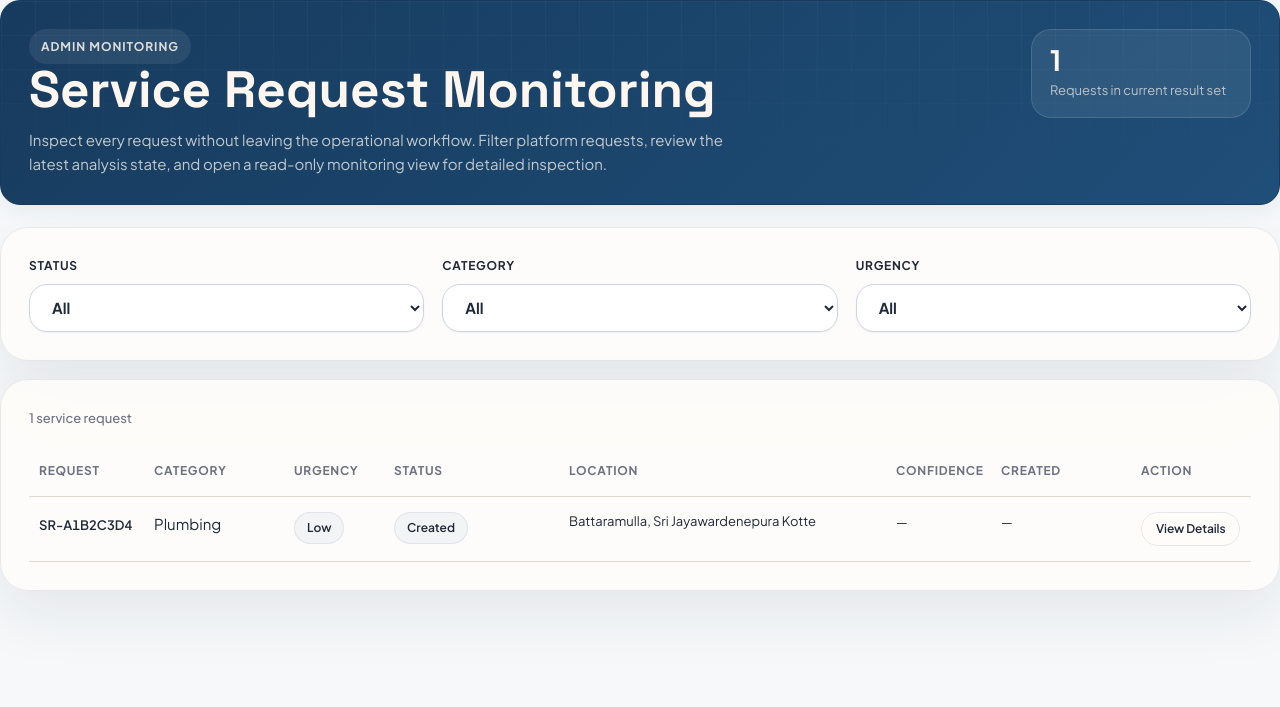
Persisted Admin location presentation › preserves the existing partial-coordinate diagnostic behavior
This screenshot has width=1280, height=707.
What coordinates should you click on to do the following:
click the button "View Details"
I would click on:
 (1191, 529)
Its box is [1141,512,1240,546].
(page scrolled)
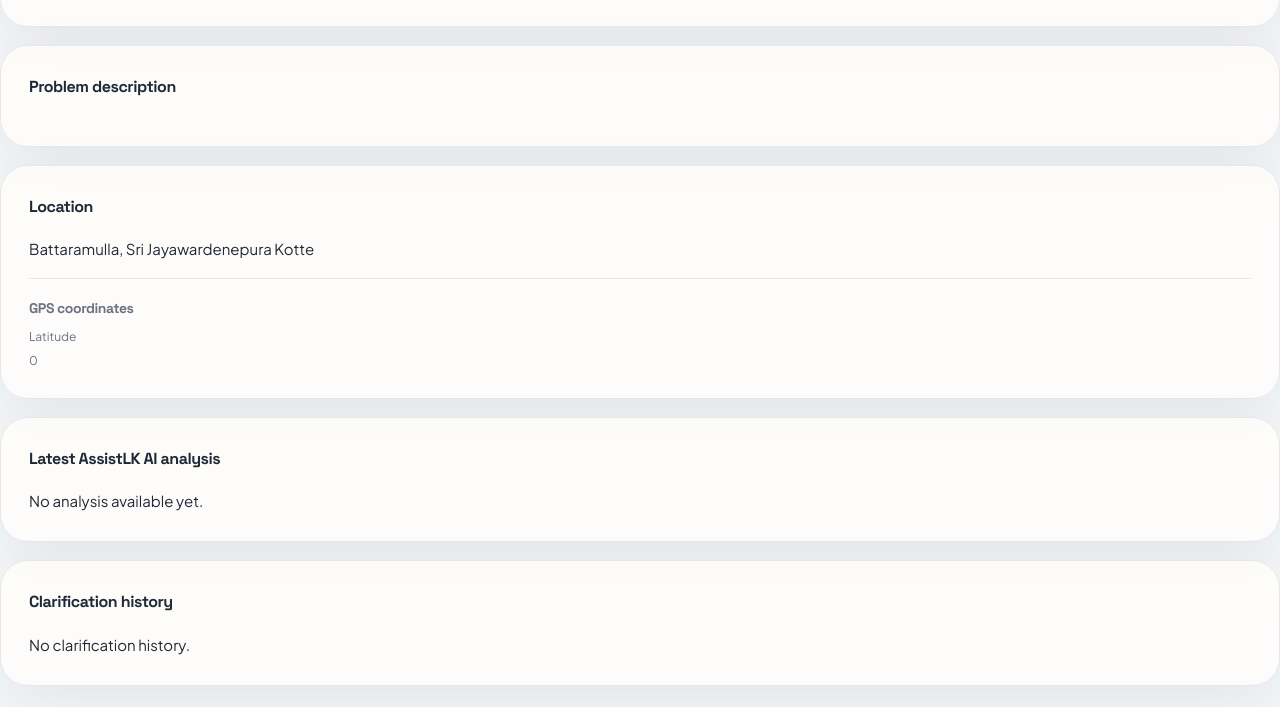
Check: the text "Latitude" is shown, box [29,329,76,344]
Check: the text "0" is shown, box [29,353,38,368]
